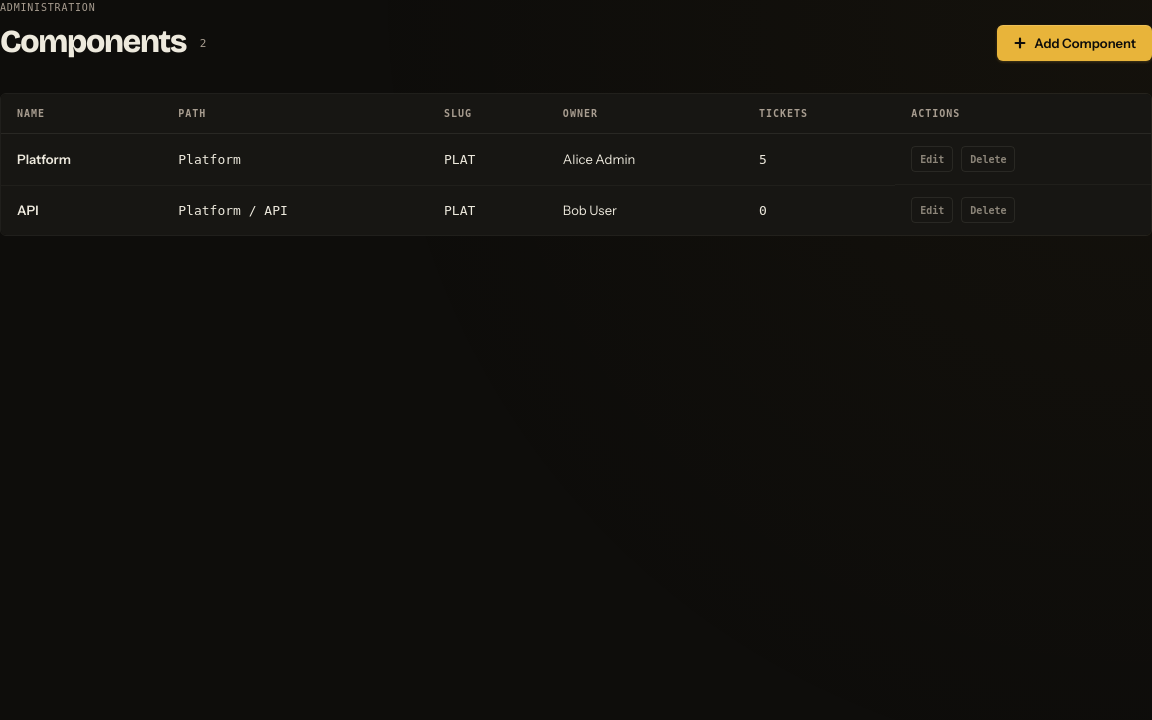
it: ComponentManagement › opens edit component modal
Expected: the text "Platform / API" is shown, left=162, top=185, right=428, bottom=235
Click the button "Edit" in the row of "Alice Admin": x=932, y=159 left=911, top=146, right=953, bottom=172
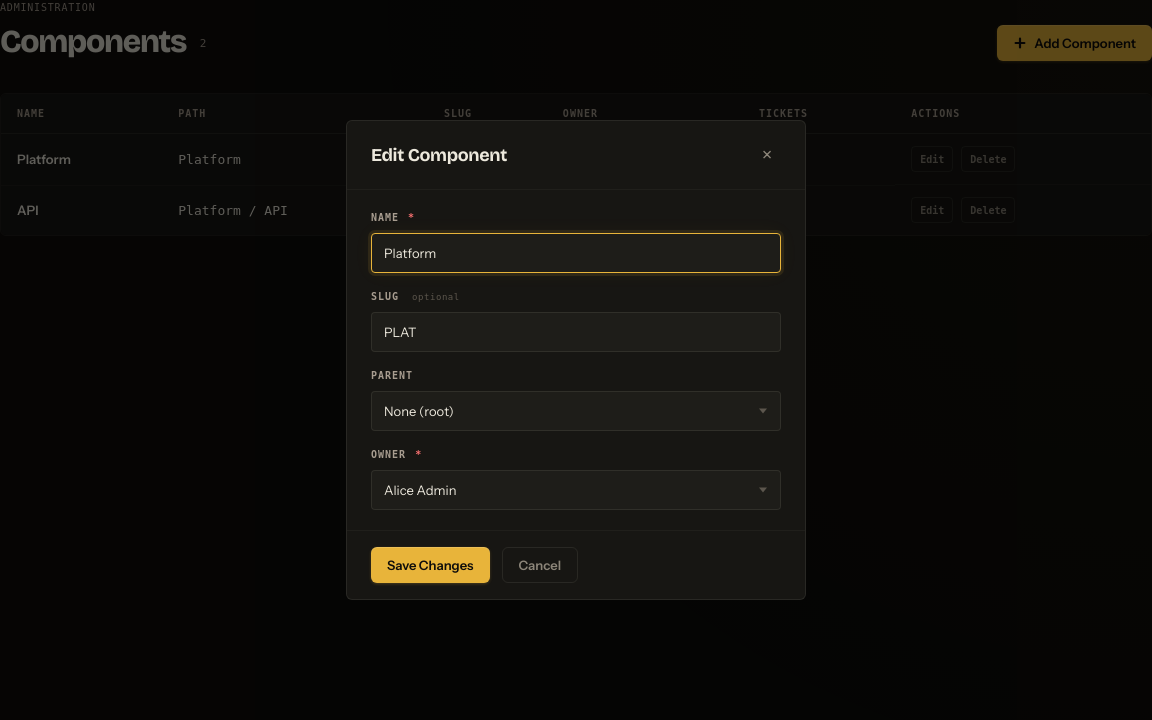
Now the heading "Edit Component" is shown, box left=371, top=144, right=507, bottom=166
